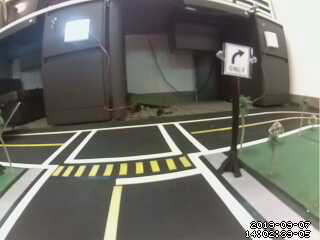Right_only_sign: (217, 40, 255, 87)
